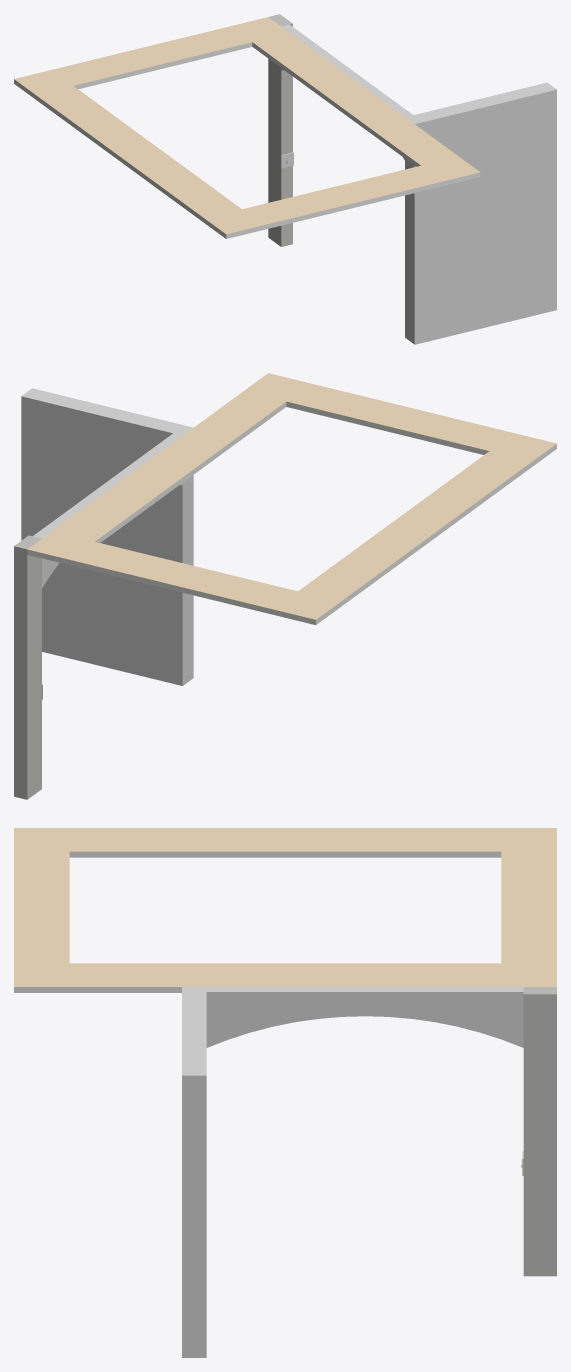
The model's file is Arch_Level1.glb.
3 renders of one model, top to bottom at view 1: azimuth 30°, elevation 25°; view 2: azimuth 150°, elevation 25°; view 3: azimuth 270°, elevation 25°, orthographic. The views are drawn at different scales.
Visible parts, largest first — view 1: Mat_18438, Mat_18960, Mat_18986, Mat_18939; view 2: Mat_18438, Mat_18960, Mat_18939, Mat_18986; view 3: Mat_18960, Mat_18438, Mat_18939, Mat_18986.
Part boxes in pixels (box(x1,y1,x2,y2)): Mat_18438: box(281, 24, 556, 344); Mat_18960: box(14, 17, 479, 234); Mat_18986: box(14, 42, 480, 238); Mat_18939: box(268, 14, 292, 246); Mat_18438: box(21, 388, 193, 685); Mat_18960: box(27, 373, 556, 619); Mat_18939: box(14, 535, 41, 799); Mat_18986: box(27, 401, 556, 624); Mat_18960: box(14, 828, 556, 986); Mat_18438: box(182, 987, 523, 1357); Mat_18939: box(523, 987, 556, 1276); Mat_18986: box(14, 851, 501, 992).
Size of the model in its own units: 4.74 by 2.52 by 4.4.
